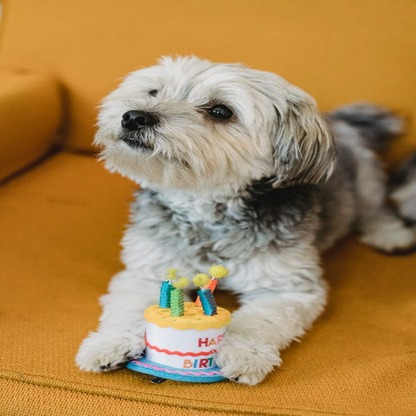yorkshire: (77, 51, 416, 390)
